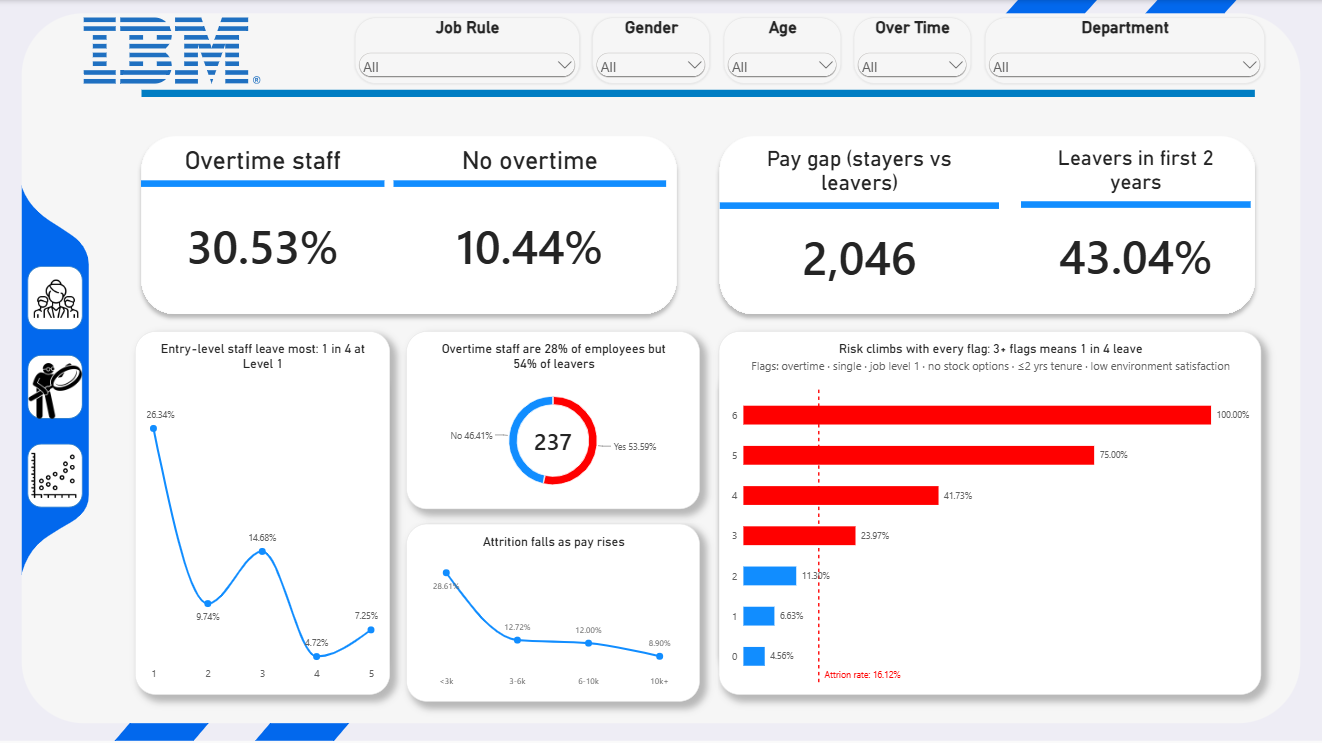

Layout of this report page (visuals, bound fields, positions):
{"tool":"powerbi","page":{"name":"2-Drivers","canvas":[1920,1080],"ordinal":2},"visuals":[{"type":"card","title":"Overtime staff","fields":{"Values":["_Measures.OverTime Attrition Rate %"]},"box":[188.2,197.4,385.6,254.6],"z":0},{"type":"card","title":"No overtime","fields":{"Values":["_Measures.No OverTime Attrition Rate %"]},"box":[555.3,197.4,428,254.6],"z":1000},{"type":"card","title":"Pay gap (stayers vs leavers)","fields":{"Values":["_Measures.Income Gap Stayers vs Leavers"]},"box":[1029.4,197.4,437.2,254.6],"z":2000},{"type":"card","title":"Leavers in first 2 years","fields":{"Values":["_Measures.Early Tenure Leavers %"]},"box":[1466.6,197.4,365.3,254.6],"z":3000},{"type":"donutChart","title":"Overtime staff are 28% of employees but 54% of leavers","fields":{"Category":["dim_overtime.OverTime"],"Y":["_Measures.Leavers"]},"box":[590,481.7,426.7,258.3],"z":4000},{"type":"lineChart","title":"Attrition falls as pay rises","fields":{"Category":["fact_employee.Income Band"],"Y":["_Measures.Attrition Rate %"]},"box":[590,760,426.7,258.3],"z":5000},{"type":"clusteredBarChart","title":"Risk climbs with every flag: 3+ flags means 1 in 4 leave","fields":{"Category":["fact_employee.Risk Flags"],"Y":["_Measures.Attrition Rate %"]},"box":[1043.3,481.7,788.3,528.3],"z":6000},{"type":"slicer","title":"Department","fields":{"Values":["dim_department.Department"]},"box":[1430,26,406,96],"z":7000},{"type":"slicer","title":"Over Time","fields":{"Values":["dim_overtime.OverTime"]},"box":[1240.5,26,170,96],"z":8000},{"type":"slicer","title":"Age","fields":{"Values":["fact_employee.Age Band"]},"box":[1051,26,170,96],"z":9000},{"type":"slicer","title":"Job Rule","fields":{"Values":["dim_job_role.JobRole"]},"box":[516,26,326,96],"z":10000},{"type":"slicer","title":"Gender","fields":{"Values":["dim_gender.Gender"]},"box":[861.5,26,170,96],"z":11000},{"type":"image","box":[0,26,500,96],"z":12000},{"type":"lineChart","title":"Entry-level staff leave most: 1 in 4 at Level 1","fields":{"Category":["fact_employee.JobLevel"],"Y":["_Measures.Attrition Rate %"]},"box":[196.7,481.7,370,528.3],"z":13000},{"type":"shape","box":[40,644,80,92.5],"z":13001},{"type":"shape","box":[40,387.3,80,92.5],"z":13002},{"type":"image","box":[48.2,393.6,64.5,80],"z":13003},{"type":"image","box":[46,648,65.5,84.5],"z":13004},{"type":"shape","box":[40,516,80,92.5],"z":13005},{"type":"image","box":[40,526,80.9,81.8],"z":13006}]}

Visuals, with their boxes in screenshot pixels (x1, y1, x2, y2), scaled from the page's 1920x1080 canvas onto the 1322x743 screenshot:
"Overtime staff" card: {"left": 130, "top": 136, "right": 395, "bottom": 311}
"No overtime" card: {"left": 382, "top": 136, "right": 677, "bottom": 311}
"Pay gap (stayers vs leavers)" card: {"left": 709, "top": 136, "right": 1010, "bottom": 311}
"Leavers in first 2 years" card: {"left": 1010, "top": 136, "right": 1261, "bottom": 311}
"Overtime staff are 28% of employees but 54% of leavers" donutChart: {"left": 406, "top": 331, "right": 700, "bottom": 509}
"Attrition falls as pay rises" lineChart: {"left": 406, "top": 523, "right": 700, "bottom": 701}
"Risk climbs with every flag: 3+ flags means 1 in 4 leave" clusteredBarChart: {"left": 718, "top": 331, "right": 1261, "bottom": 695}
"Department" slicer: {"left": 985, "top": 18, "right": 1264, "bottom": 84}
"Over Time" slicer: {"left": 854, "top": 18, "right": 971, "bottom": 84}
"Age" slicer: {"left": 724, "top": 18, "right": 841, "bottom": 84}
"Job Rule" slicer: {"left": 355, "top": 18, "right": 580, "bottom": 84}
"Gender" slicer: {"left": 593, "top": 18, "right": 710, "bottom": 84}
image: {"left": 0, "top": 18, "right": 344, "bottom": 84}
"Entry-level staff leave most: 1 in 4 at Level 1" lineChart: {"left": 135, "top": 331, "right": 390, "bottom": 695}
shape: {"left": 28, "top": 443, "right": 83, "bottom": 507}
shape: {"left": 28, "top": 266, "right": 83, "bottom": 330}
image: {"left": 33, "top": 271, "right": 78, "bottom": 326}
image: {"left": 32, "top": 446, "right": 77, "bottom": 504}
shape: {"left": 28, "top": 355, "right": 83, "bottom": 419}
image: {"left": 28, "top": 362, "right": 83, "bottom": 418}
